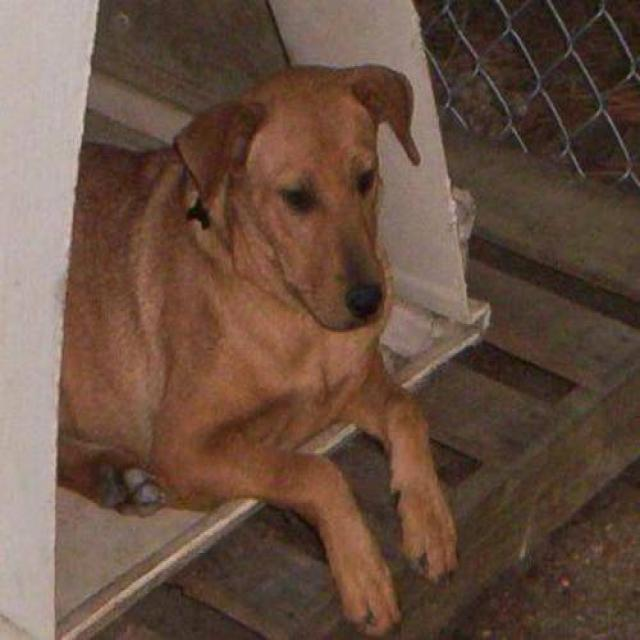dogs: (0, 29, 484, 592)
